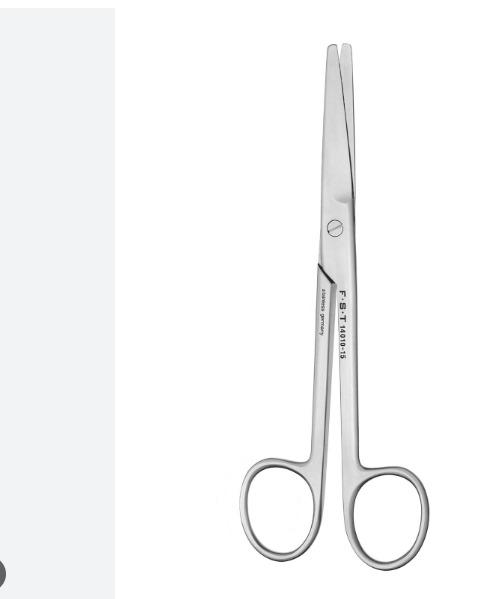Straight Mayo: (232, 40, 431, 575)
